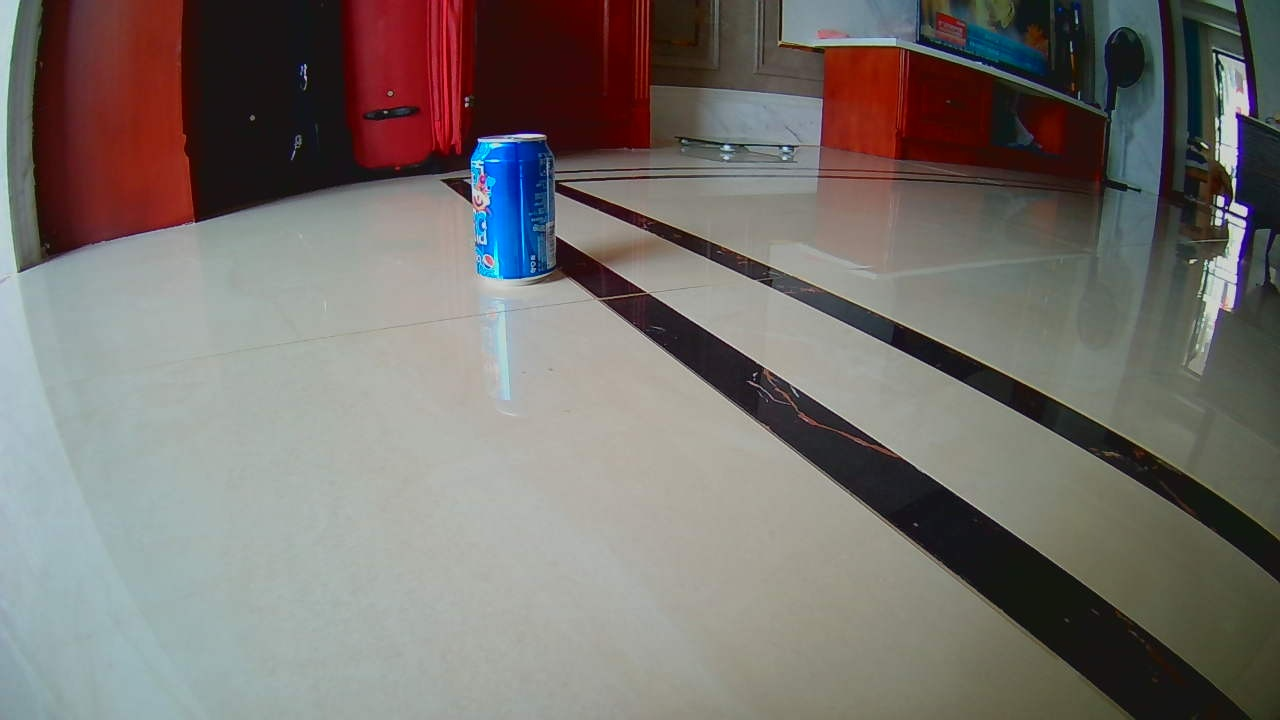pessi: (467, 134, 556, 284)
